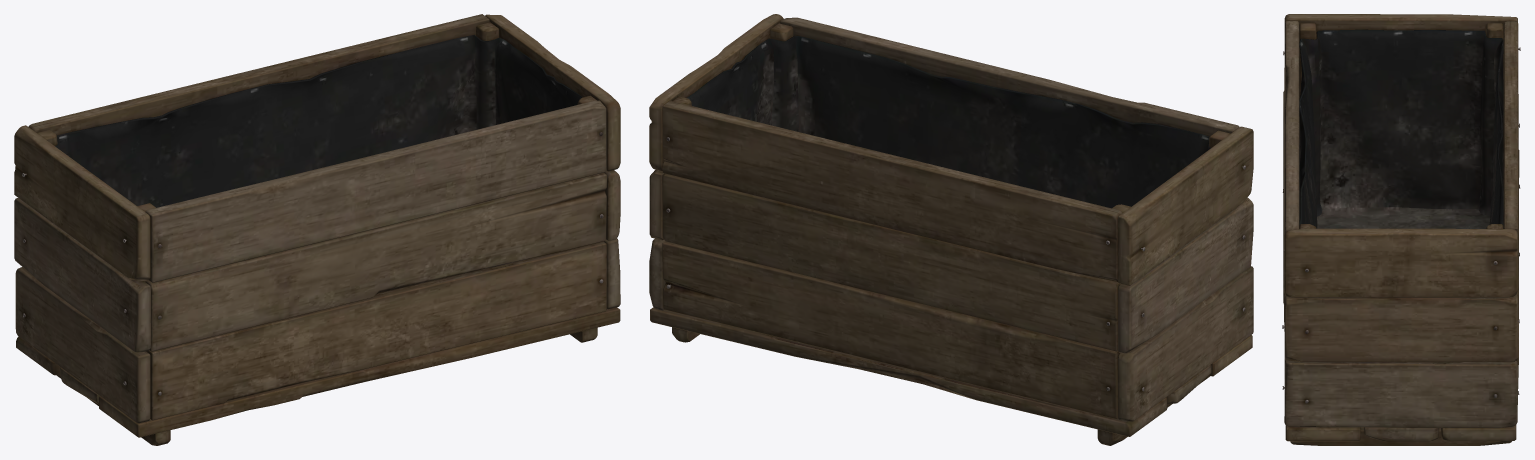
File: planter_box_01-lod0.glb
3 views of the same model, side by side, from view 1: azimuth 30°, elevation 25°; view 2: azimuth 150°, elevation 25°; view 3: azimuth 270°, elevation 25° (orthographic). The views are drawn at different scales.
Parts seen in each view (by area): view 1: planter_box_01; view 2: planter_box_01; view 3: planter_box_01.
Boxes of the visible parts, x1,y1,x2,y2 form: planter_box_01: (14, 14, 620, 445); planter_box_01: (649, 14, 1253, 445); planter_box_01: (1282, 14, 1520, 445).
Size of the model in its own units: 0.9126 by 0.425 by 0.4137.
Materials: 1 (1 with a texture image).
